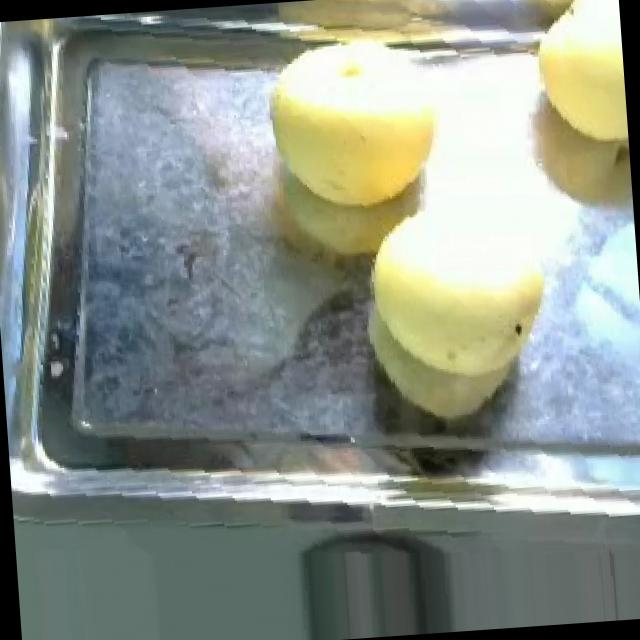Fruit: (348, 226, 572, 434), (248, 49, 467, 224), (518, 0, 630, 168)
